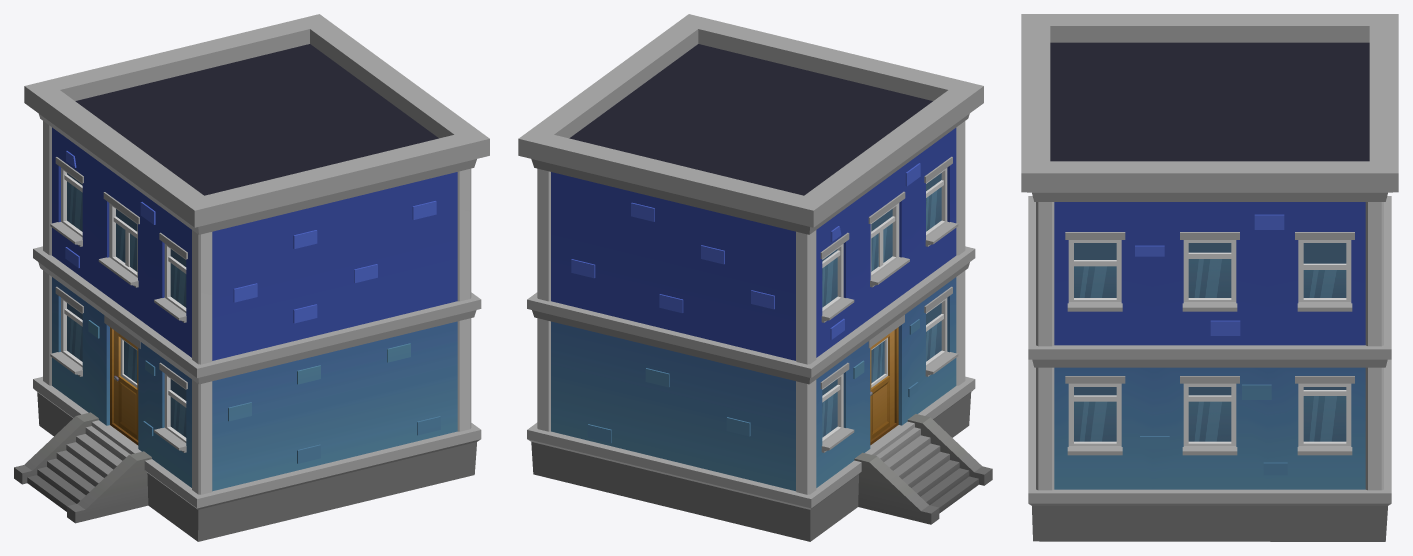
The model's file is Building_2_1_C.fbx.
3 views of the same model, side by side, from view 1: azimuth 30°, elevation 25°; view 2: azimuth 150°, elevation 25°; view 3: azimuth 270°, elevation 25° (orthographic). The views are drawn at different scales.
Parts seen in each view (by area): view 1: Building_2_1_C; view 2: Building_2_1_C; view 3: Building_2_1_C.
Boxes of the visible parts, x1,y1,x2,y2 form: Building_2_1_C: [14, 14, 489, 541]; Building_2_1_C: [518, 14, 992, 541]; Building_2_1_C: [1021, 14, 1398, 541].
Bounding box in the file's own units: 755 × 678 × 620.
